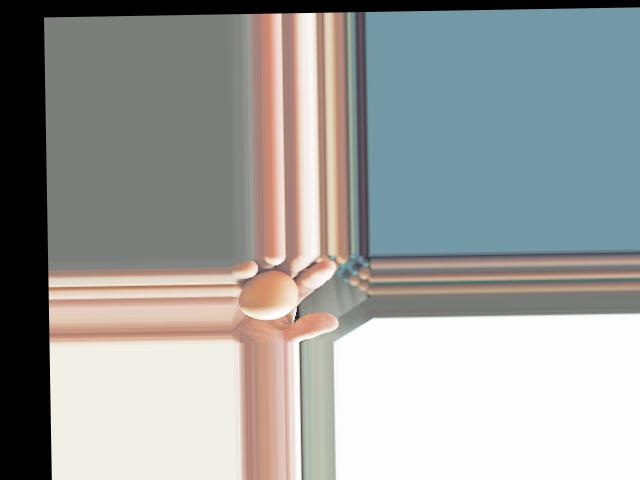egg: (236, 268, 298, 319)
